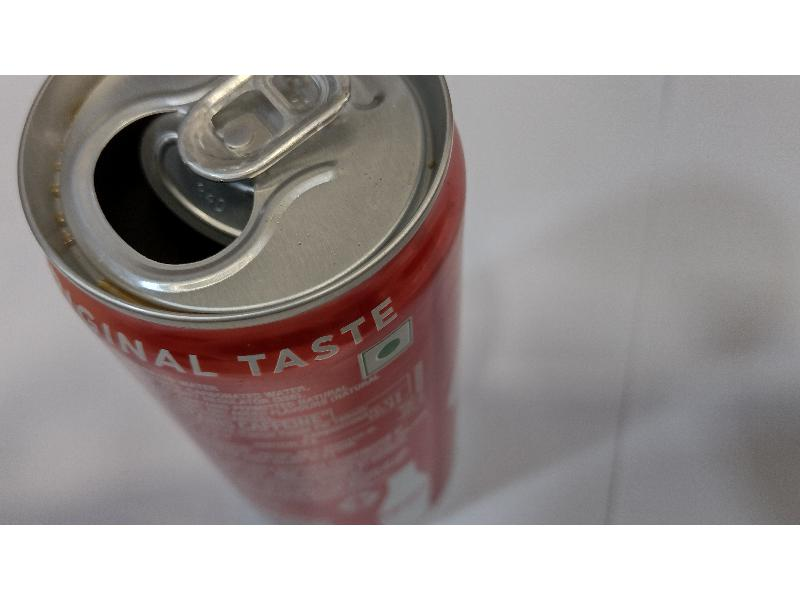can: (20, 73, 482, 520)
